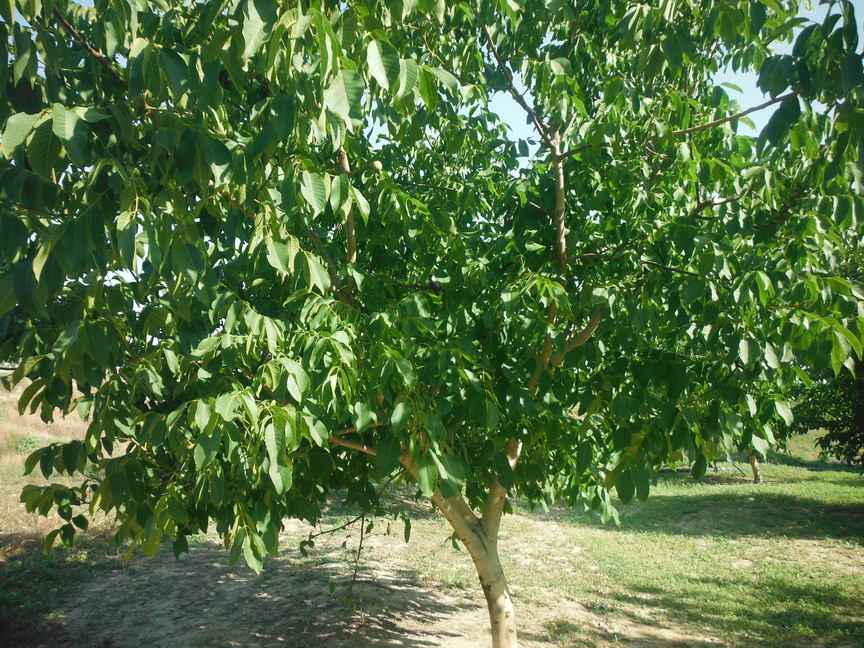walnut: (370, 157, 387, 174), (601, 378, 615, 393), (341, 593, 355, 607), (602, 370, 615, 384), (596, 470, 609, 484), (305, 538, 319, 551), (297, 538, 309, 549)
